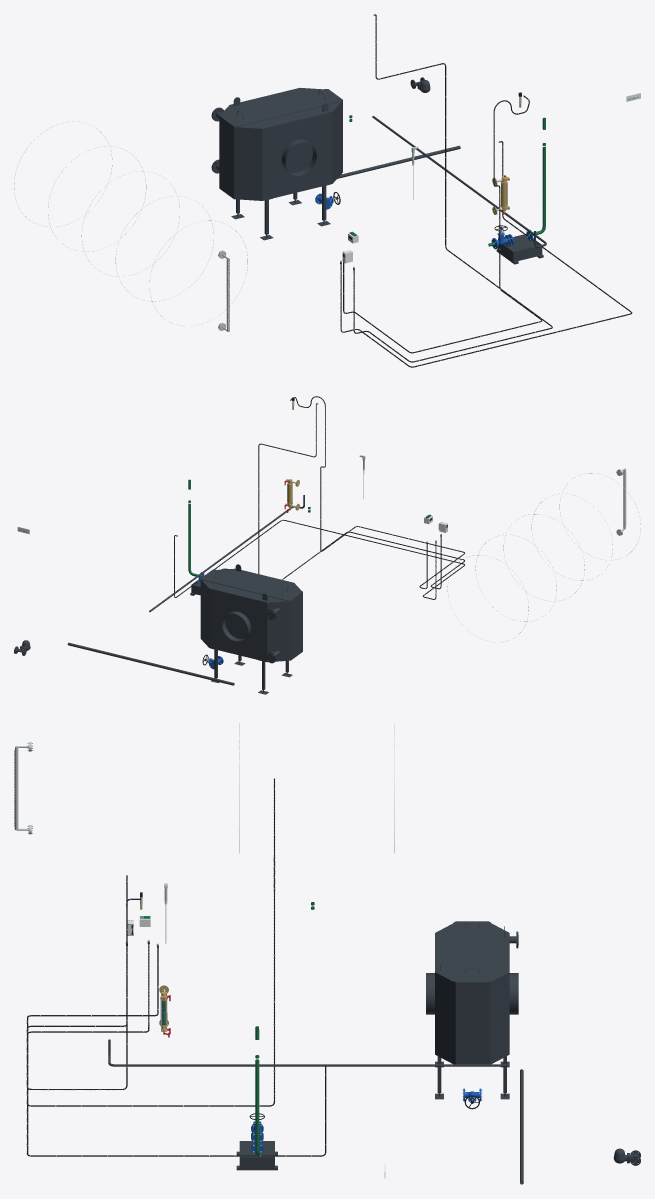
The model's file is s4000-2-BL3CPUVd.glb.
3 renders of one model, top to bottom at view 1: azimuth 30°, elevation 25°; view 2: azimuth 150°, elevation 25°; view 3: azimuth 270°, elevation 25°, orthographic. The views are drawn at different scales.
Visible parts, largest first — view 1: EQS2-3000 CAD 0, EQS2-3000 CAD 3, EQS2-3000 CAD 1, gpz_drive_cable / black, wiring_pressure_switch_3 / black, wiring_pump_2 / black, deaerator_details / steel, pump_branch_1 / dark, tds_common / dark; view 2: EQS2-3000 CAD 0, EQS2-3000 CAD 3, EQS2-3000 CAD 2, gpz_drive_cable / black, wiring_pressure_switch_3 / black, wiring_pump_2 / black, bottom_discharge / dark, deaerator_details / steel, tds_common / dark; view 3: EQS2-3000 CAD 3, EQS2-3000 CAD 0, wiring_pump_2 / black, tds_common / dark, gpz_drive_cable / black, wiring_pressure_switch_3 / black, pump_branch_1 / dark, deaerator_details / steel.
Boxes of the visible parts, x1,y1,x2,y2 form: EQS2-3000 CAD 0: (231, 112, 332, 240); EQS2-3000 CAD 3: (219, 88, 342, 198); EQS2-3000 CAD 1: (234, 127, 262, 200); gpz_drive_cable / black: (353, 14, 552, 362); wiring_pressure_switch_3 / black: (343, 95, 542, 353); wiring_pump_2 / black: (340, 141, 632, 367); deaerator_details / steel: (14, 121, 247, 331); pump_branch_1 / dark: (496, 234, 543, 264); tds_common / dark: (372, 116, 546, 247); EQS2-3000 CAD 0: (209, 588, 292, 694); EQS2-3000 CAD 3: (200, 564, 302, 660); EQS2-3000 CAD 2: (265, 601, 290, 663); gpz_drive_cable / black: (258, 403, 464, 589); wiring_pressure_switch_3 / black: (290, 396, 464, 588); wiring_pump_2 / black: (174, 519, 464, 599); bottom_discharge / dark: (67, 642, 234, 685); deaerator_details / steel: (447, 468, 640, 642); tds_common / dark: (149, 495, 304, 612); EQS2-3000 CAD 3: (435, 921, 509, 1064); EQS2-3000 CAD 0: (426, 973, 518, 1099); wiring_pump_2 / black: (26, 944, 326, 1156); tds_common / dark: (108, 1039, 507, 1066); gpz_drive_cable / black: (26, 778, 275, 1106); wiring_pressure_switch_3 / black: (26, 875, 158, 1089); pump_branch_1 / dark: (236, 1141, 277, 1170); deaerator_details / steel: (14, 723, 394, 852).
Bounding box in the file's own units: 9.02 × 3.71 × 6.88.
